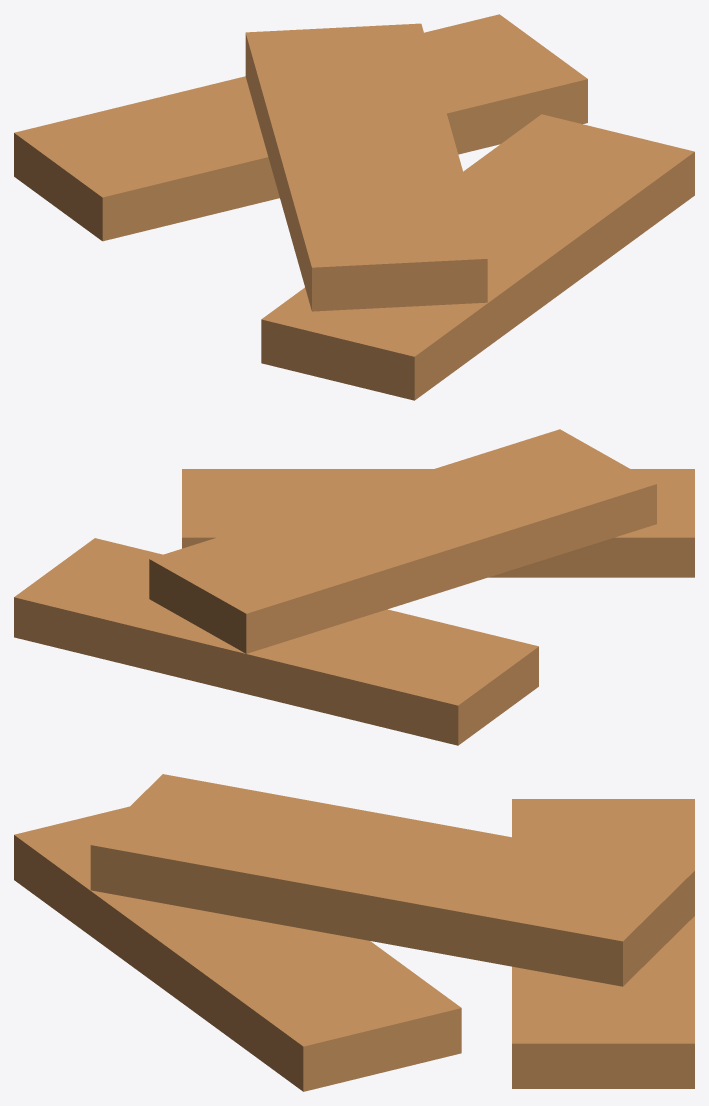
File: debrisWood.dae
3 views of the same model, one above another, from view 1: azimuth 30°, elevation 25°; view 2: azimuth 150°, elevation 25°; view 3: azimuth 270°, elevation 25° (orthographic). The views are drawn at different scales.
Visible parts, largest first — view 1: debrisWood; view 2: debrisWood; view 3: debrisWood.
Part boxes in pixels (x1,y1,x2,y2): debrisWood: [14, 14, 694, 400]; debrisWood: [14, 429, 694, 745]; debrisWood: [14, 774, 694, 1091].
Bounding box in the file's own units: 0.4669 × 0.0787 × 0.5364.
